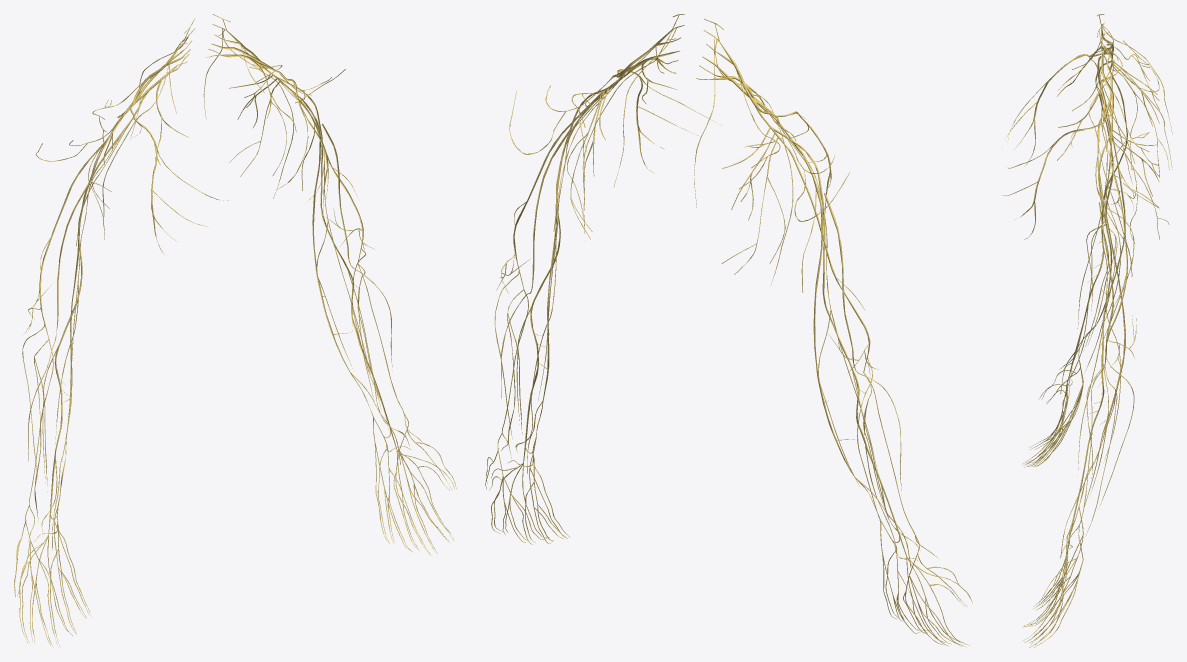
Rendered from upper-limb-nerves.glb.
3 views of the same model, side by side, from view 1: azimuth 30°, elevation 25°; view 2: azimuth 150°, elevation 25°; view 3: azimuth 270°, elevation 25° (orthographic). The views are drawn at different scales.
Visible parts, largest first — view 1: ZA_median_nerve_r, ZA_median_nerve_l, ZA_dorsal_digital_branches_of_radial_nerve_l, ZA_ulnar_nerve_l, ZA_dorsal_digital_branches_of_radial_nerve_r, ZA_ulnar_nerve_r; view 2: ZA_median_nerve_r, ZA_ulnar_nerve_r, ZA_ulnar_nerve_l, ZA_median_nerve_l; view 3: ZA_median_nerve_l, ZA_ulnar_nerve_l, ZA_dorsal_digital_branches_of_radial_nerve_l, ZA_median_nerve_r, ZA_ulnar_nerve_r, ZA_proper_palmar_digital_branches_of_median_nerve_l, ZA_radial_nerve_l, ZA_lateral_pectoral_nerve_l, ZA_lateral_pectoral_nerve_r, ZA_dorsal_digital_branches_of_radial_nerve_r, ZA_superficial_branch_of_radial_nerve_l, ZA_proper_palmar_digital_branches_of_median_nerve_r (+2 smaller).
Boxes of the visible parts, x1,y1,x2,y2 form: ZA_median_nerve_r: [48, 111, 126, 534]; ZA_median_nerve_l: [276, 76, 396, 449]; ZA_dorsal_digital_branches_of_radial_nerve_l: [393, 442, 456, 554]; ZA_ulnar_nerve_l: [272, 74, 373, 417]; ZA_dorsal_digital_branches_of_radial_nerve_r: [14, 538, 68, 645]; ZA_ulnar_nerve_r: [60, 107, 139, 493]; ZA_median_nerve_r: [771, 127, 906, 556]; ZA_ulnar_nerve_r: [770, 114, 880, 520]; ZA_ulnar_nerve_l: [536, 76, 623, 436]; ZA_median_nerve_l: [523, 87, 608, 462]; ZA_median_nerve_l: [1067, 130, 1112, 546]; ZA_ulnar_nerve_l: [1078, 120, 1125, 506]; ZA_dorsal_digital_branches_of_radial_nerve_l: [1027, 558, 1083, 647]; ZA_median_nerve_r: [1067, 60, 1111, 382]; ZA_ulnar_nerve_r: [1079, 57, 1125, 358]; ZA_proper_palmar_digital_branches_of_median_nerve_l: [1022, 555, 1066, 647]; ZA_radial_nerve_l: [1104, 140, 1127, 365]; ZA_lateral_pectoral_nerve_l: [1002, 123, 1103, 239]; ZA_lateral_pectoral_nerve_r: [1006, 53, 1102, 166]; ZA_dorsal_digital_branches_of_radial_nerve_r: [1027, 370, 1083, 465]; ZA_superficial_branch_of_radial_nerve_l: [1060, 366, 1104, 559]; ZA_proper_palmar_digital_branches_of_median_nerve_r: [1022, 384, 1065, 465].
Size of the model in its own units: 0.6465 by 0.7777 by 0.2253.
